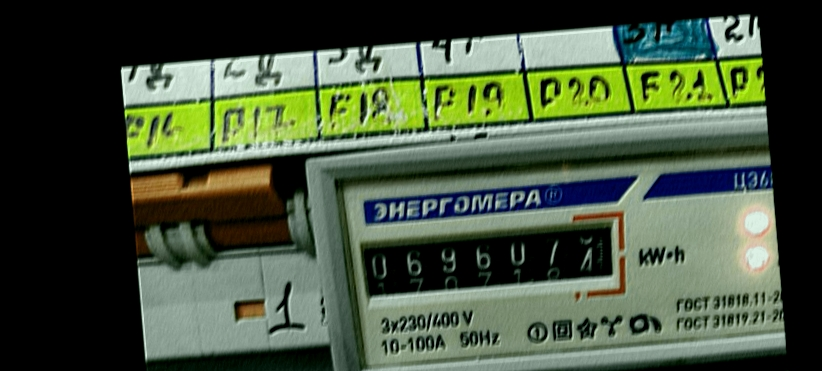0: (510, 237, 532, 269), (372, 252, 392, 281)
4: (580, 247, 598, 276)
6: (475, 242, 497, 273), (407, 248, 428, 277)
7: (546, 236, 566, 268)
9: (442, 246, 461, 275)
screen: (348, 205, 639, 317)
